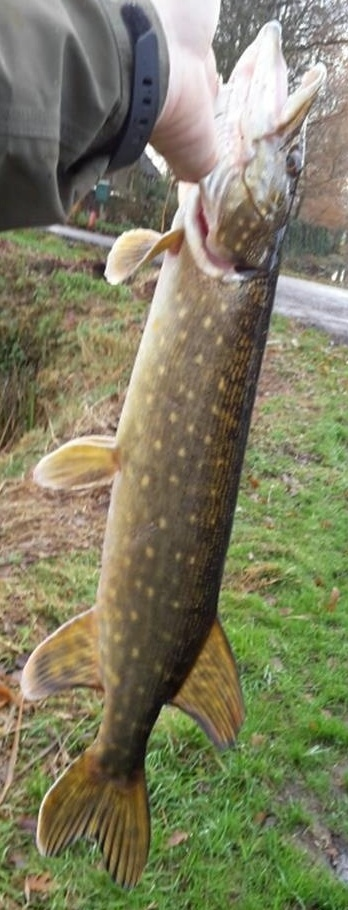Esox lucius: (20, 20, 328, 890)
